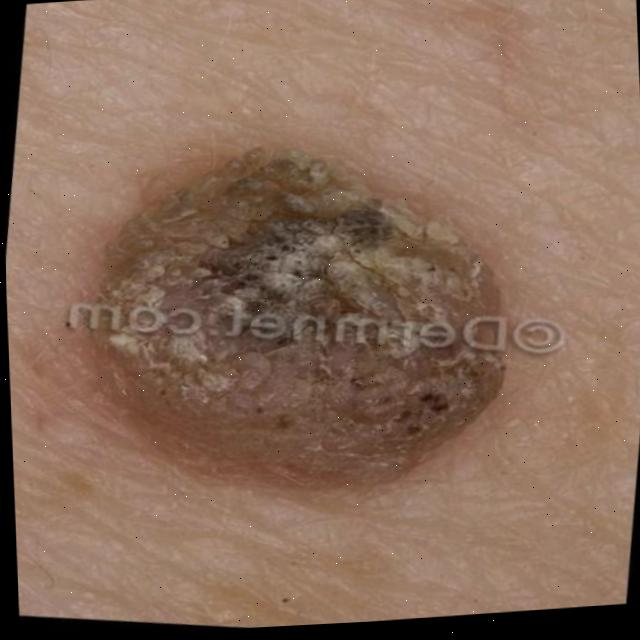Eczema: (71, 122, 527, 502)
